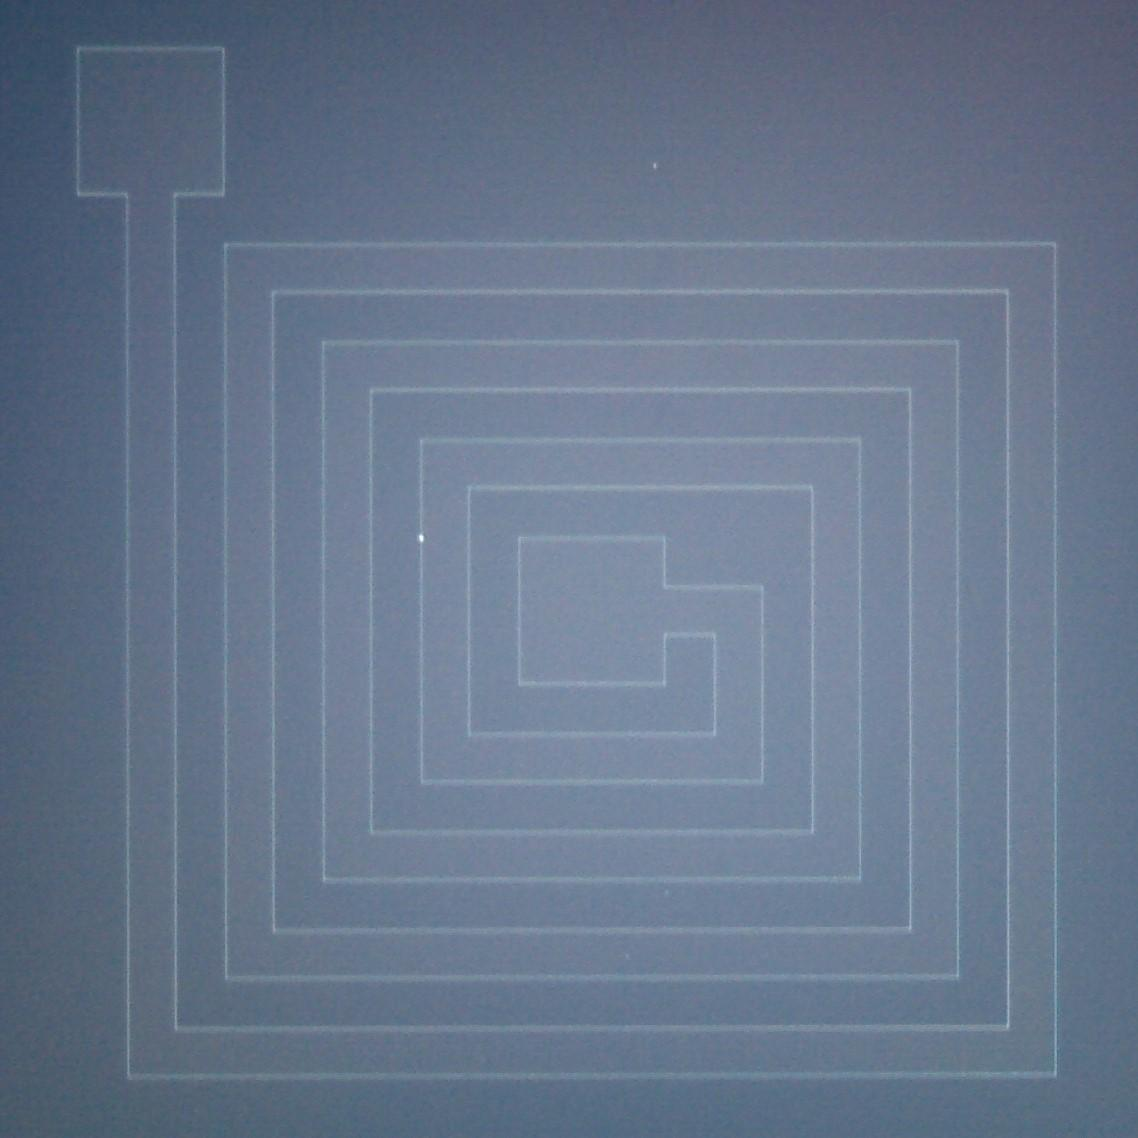s_point: (649, 159, 661, 172), (417, 534, 427, 544)
